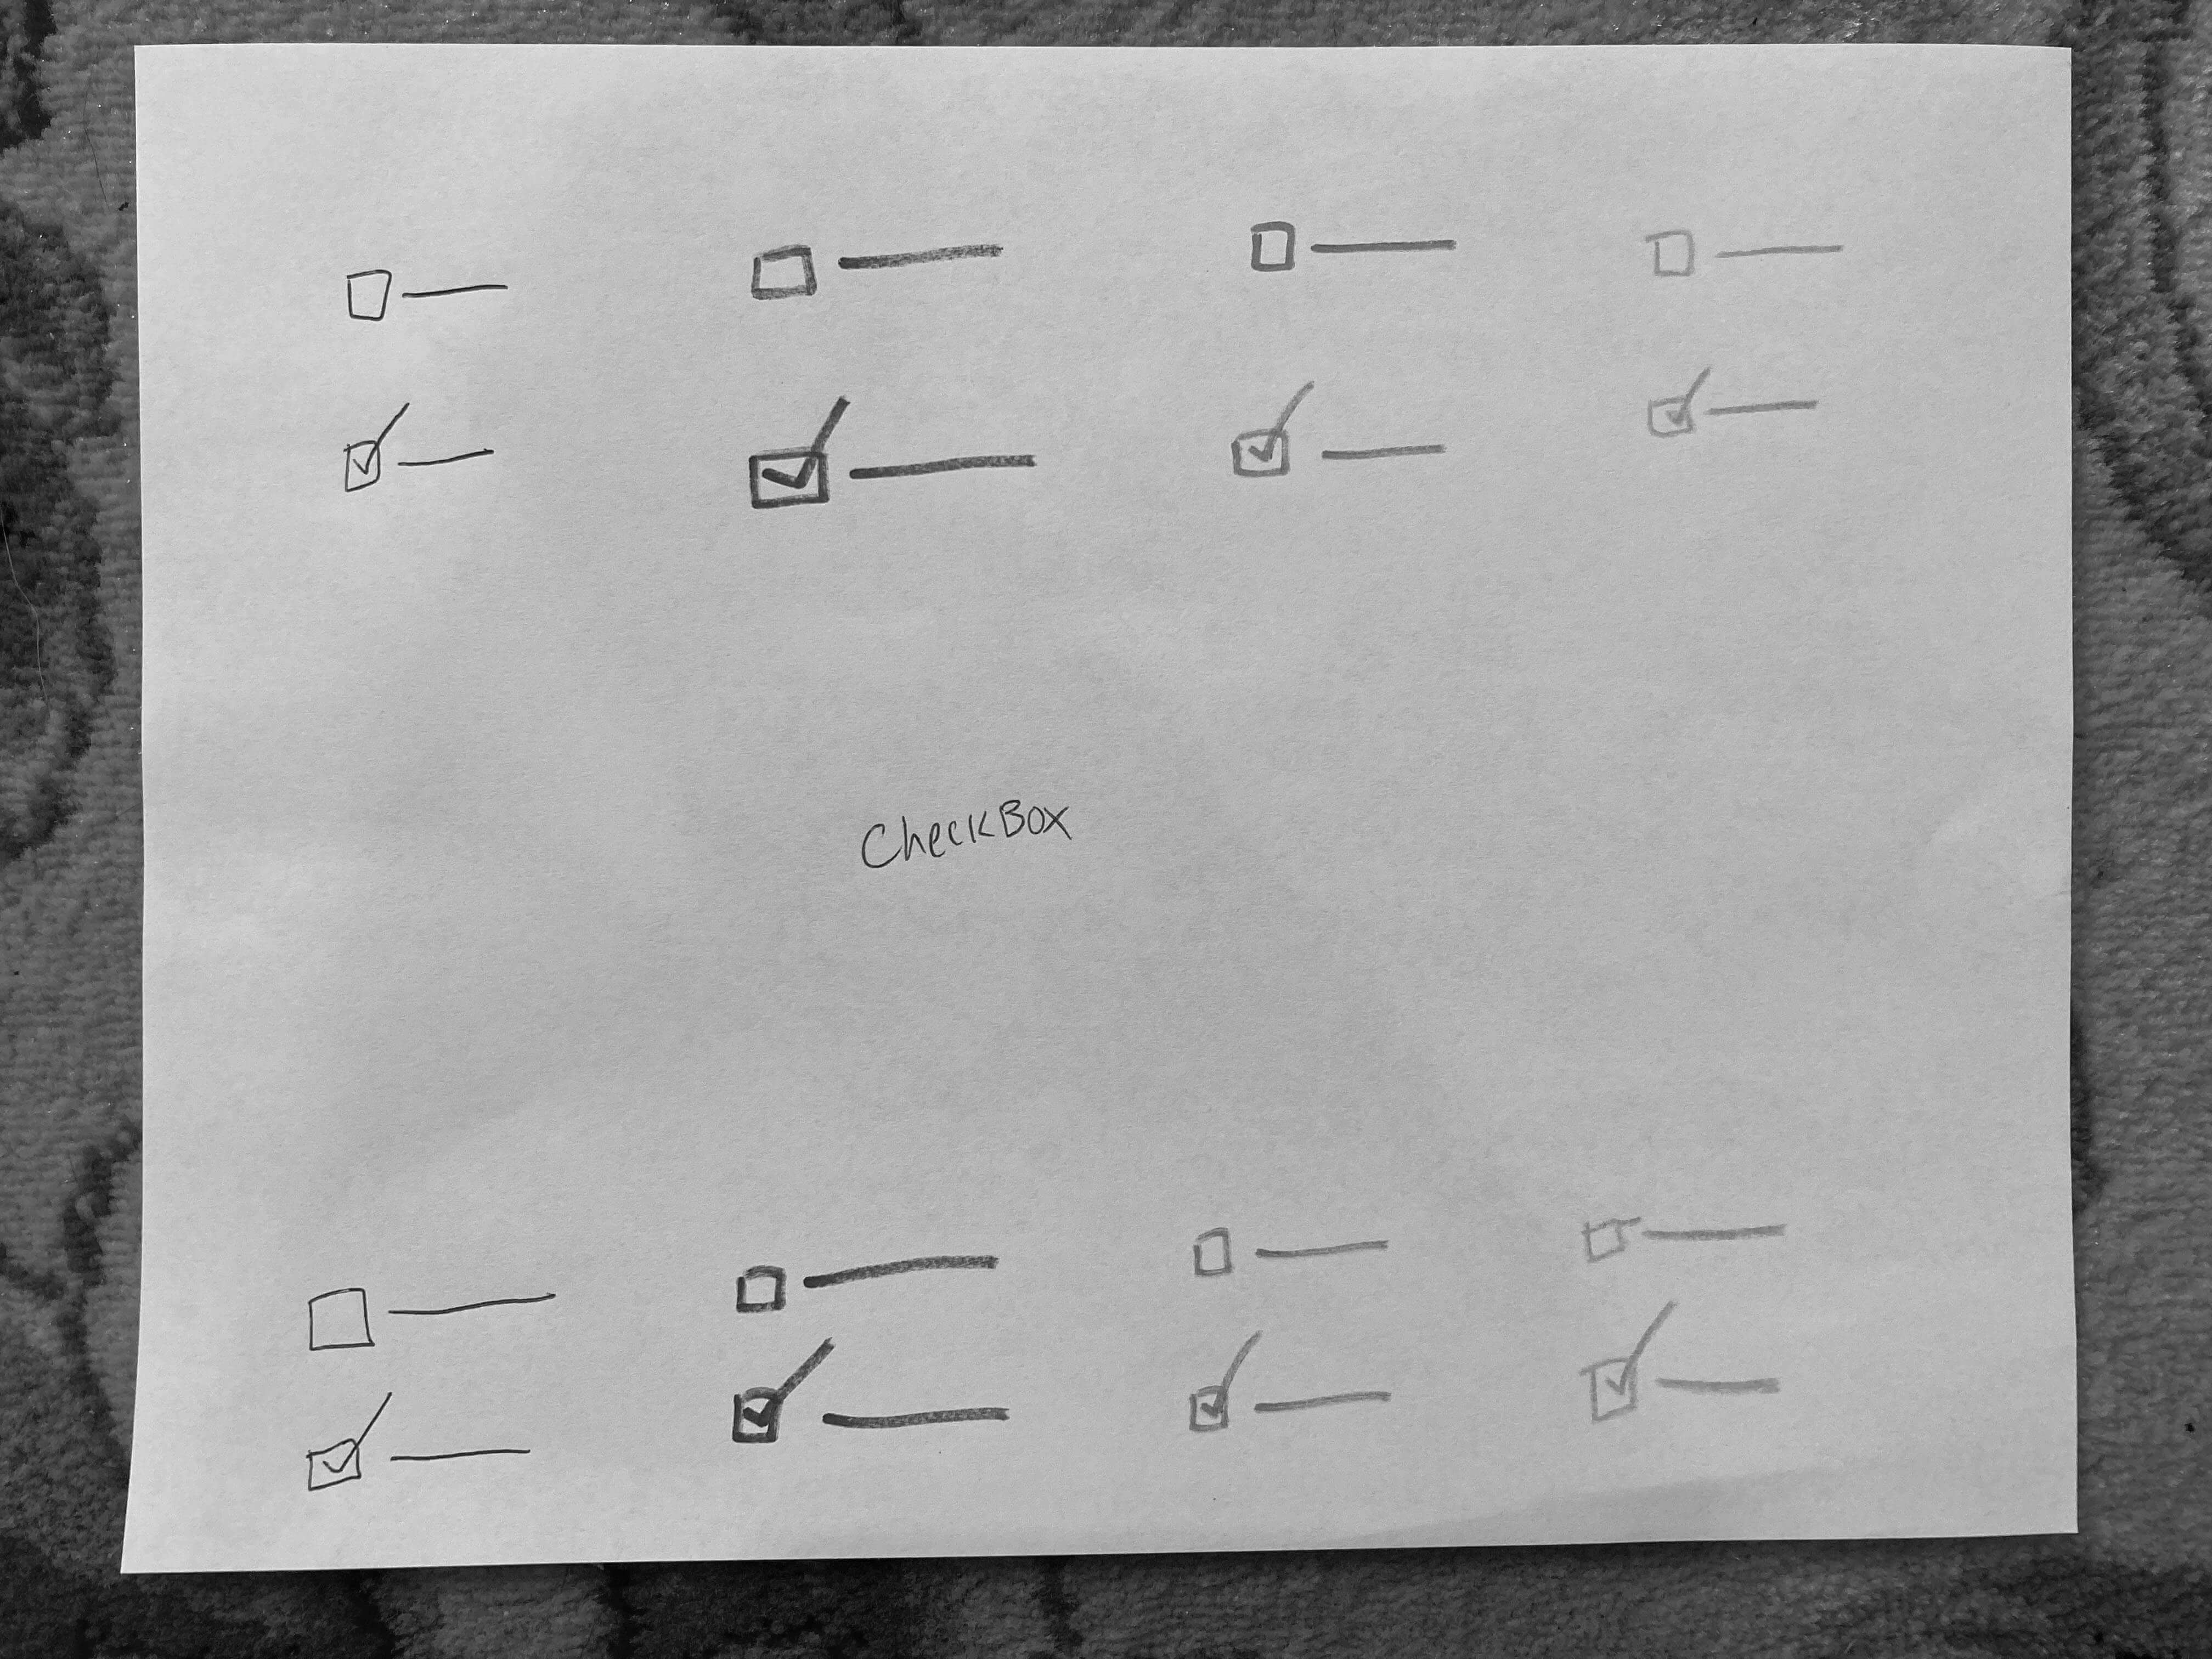checkbox: (719, 1352, 1019, 1464), (737, 410, 1050, 514), (296, 1399, 547, 1504), (1566, 1335, 1804, 1434), (1224, 399, 1474, 491), (732, 1237, 1015, 1317), (744, 232, 1024, 310), (1174, 1352, 1411, 1439), (329, 404, 516, 504), (301, 1286, 563, 1354), (1637, 362, 1834, 450), (1569, 1199, 1797, 1274), (1244, 213, 1482, 284), (1186, 1220, 1397, 1298), (1637, 228, 1876, 289), (336, 261, 519, 324)
